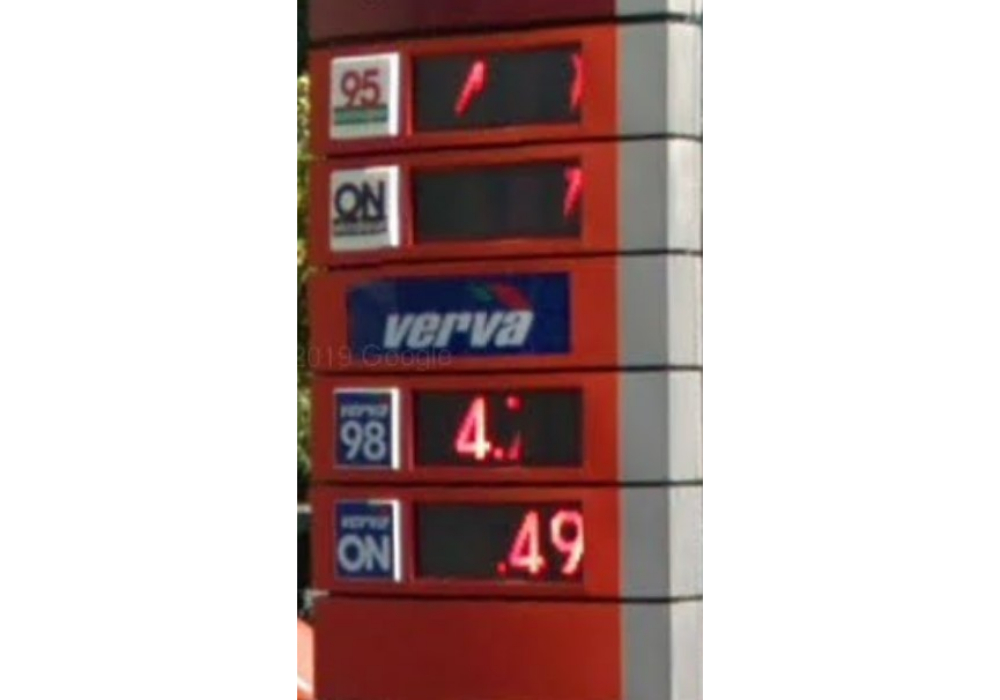ON: (327, 161, 398, 253), (332, 496, 400, 583)
PB95: (327, 52, 400, 140)
PB98: (331, 381, 403, 474)
